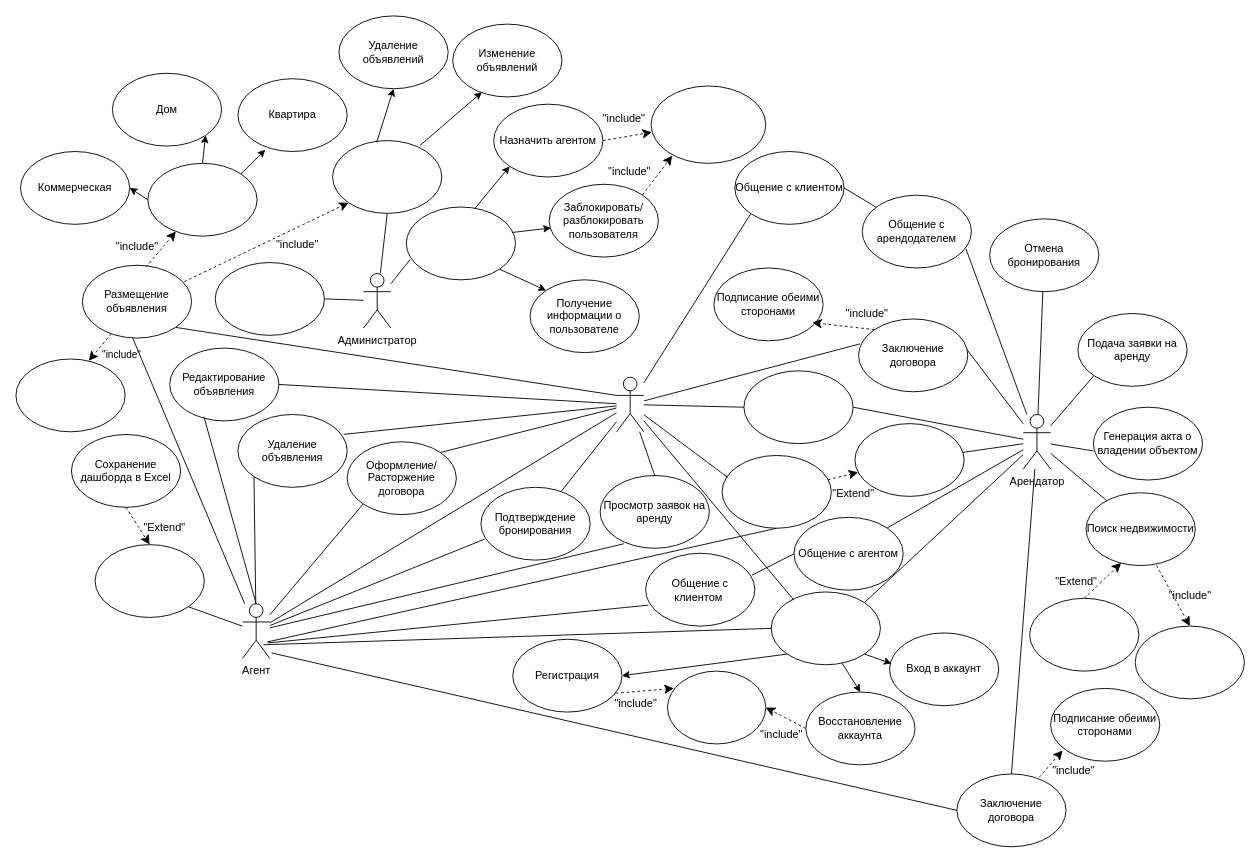
Some shapes in this 1260 by 863 pixel diagram are drawn without their labels. Here are the shapes that lost their labels. From the top down, the box of each, then its label:
(650, 85, 766, 163): Соответствующая информация пользователю на email
(332, 140, 442, 213): Модерация объявлений
(147, 162, 257, 236): Категоризация недвижимости
(405, 206, 516, 280): Управление пользователями и правами доступа
(214, 262, 324, 335): Просмотров логов действий и аудит системы
(15, 358, 125, 432): Загрузка фотографий
(616, 376, 644, 432): Собственник
(743, 370, 853, 444): Скачивание акта в PDF
(854, 423, 964, 496): Аренда недвижимости
(721, 455, 831, 528): Обработка заявок на аренду
(94, 544, 204, 617): Просмотр статистики
(770, 591, 880, 665): Авторизация
(1029, 597, 1139, 671): Фильтрация и сортировка объектов
(1134, 625, 1244, 699): Просмотр деталей объекта
(667, 670, 766, 744): Код подтверждения на email
